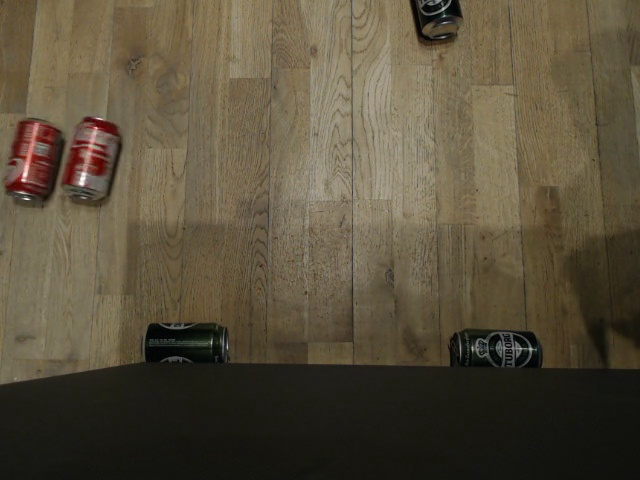beer: (446, 323, 543, 371), (138, 319, 229, 363), (405, 0, 471, 45)
cola: (59, 112, 124, 200), (1, 114, 65, 202)
